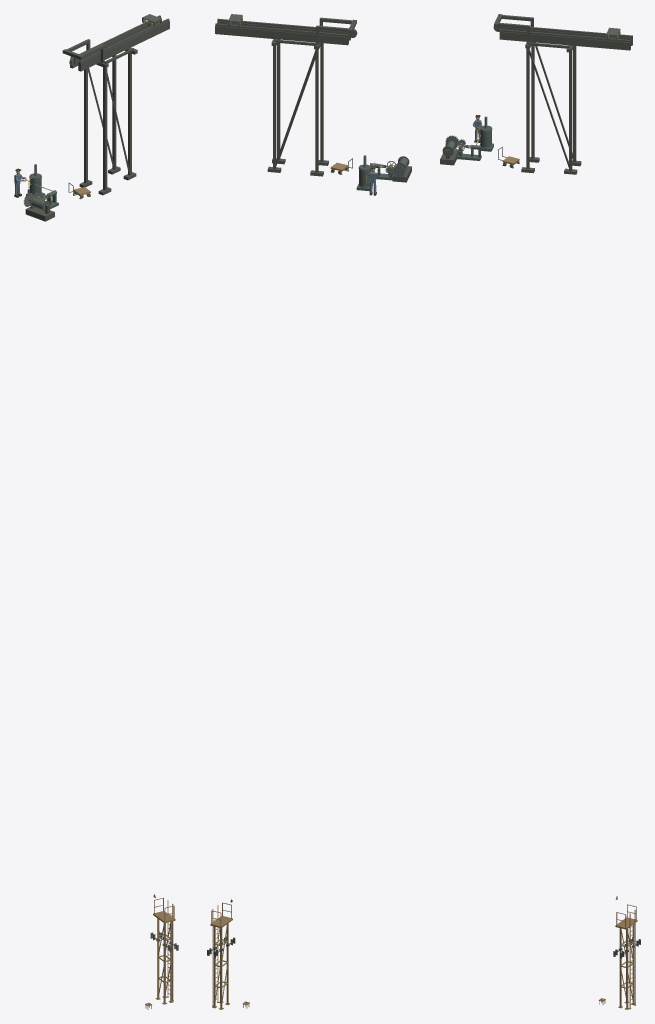
File: relay.glb
The picture shows the model from 3 angles, left to right: view 1: azimuth 30°, elevation 25°; view 2: azimuth 150°, elevation 25°; view 3: azimuth 330°, elevation 25°; orthographic projection.
Parts seen in each view (by area): view 1: girder--1.002, post-1--1.002, post-0-1.002, post-0--1.002, post-1-1.002; view 2: girder-1.002, post-1-1.002, post-0-1.002; view 3: girder--1.002, post-1--1.002, post-0--1.002.
Boxes of the visible parts, box(x1,y1,x2,y2) form: girder--1.002: box(78, 21, 169, 71); post-1--1.002: box(103, 67, 107, 190); post-0-1.002: box(112, 55, 116, 169); post-0--1.002: box(128, 53, 131, 175); post-1-1.002: box(84, 68, 87, 183); girder-1.002: box(215, 26, 348, 45); post-1-1.002: box(315, 49, 318, 172); post-0-1.002: box(273, 46, 276, 168); girder--1.002: box(499, 31, 630, 50); post-1--1.002: box(526, 48, 529, 169); post-0--1.002: box(569, 51, 572, 170).
Size of the model in its own units: 12.22 by 68.33 by 5.64.
